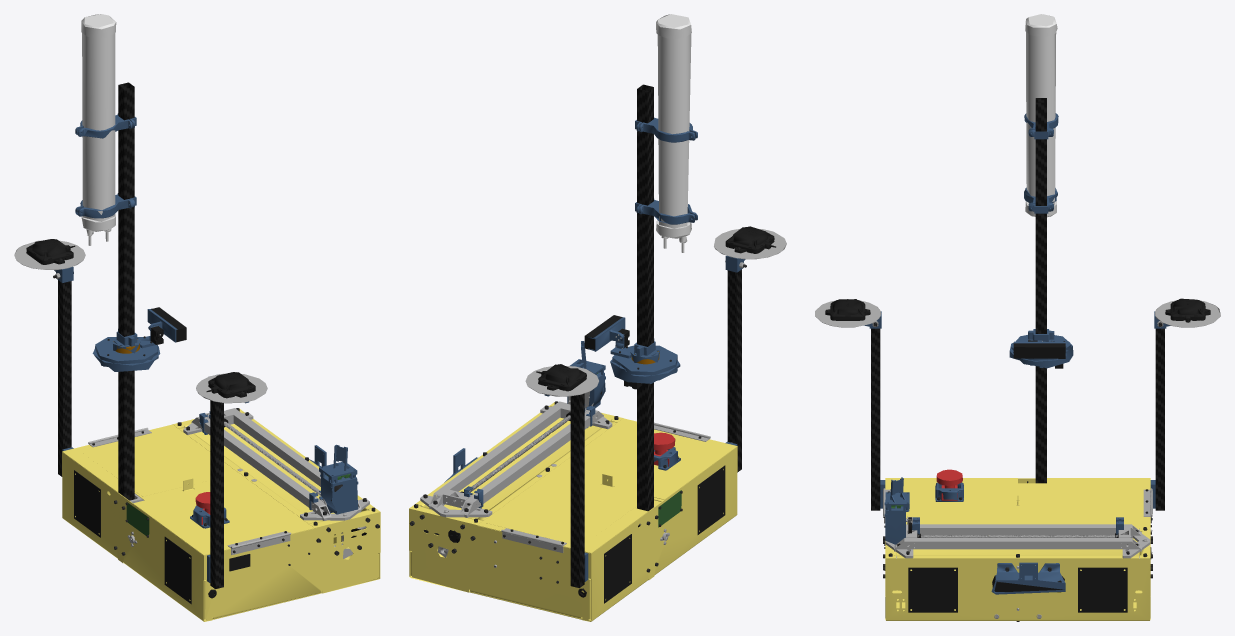
The model's file is chassis.glb.
3 views of the same model, side by side, from view 1: azimuth 30°, elevation 25°; view 2: azimuth 150°, elevation 25°; view 3: azimuth 270°, elevation 25° (orthographic). The views are drawn at different scales.
Visible parts, largest first — view 1: 111438_A;1; view 2: 111438_A;1; view 3: 111438_A;1.
Boxes of the visible parts, x1,y1,x2,y2 form: 111438_A;1: (14, 14, 380, 621); 111438_A;1: (409, 14, 786, 621); 111438_A;1: (815, 14, 1220, 621).
Bounding box in the file's own units: 61.53 × 136 × 97.27.
12 materials, 1 textured.
